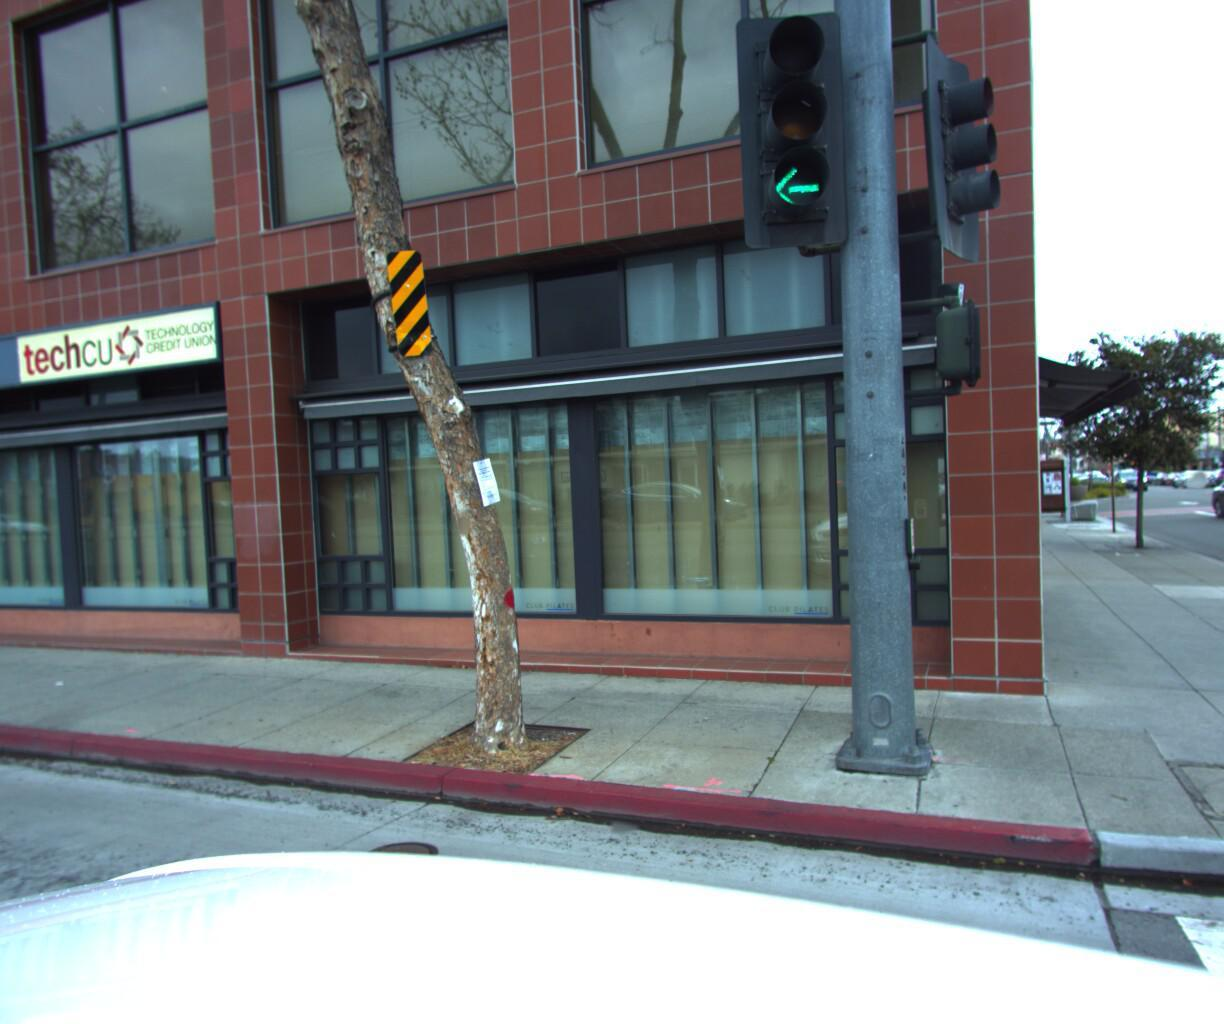car: (1203, 481, 1224, 540), (1166, 483, 1208, 506), (1215, 477, 1224, 501)
